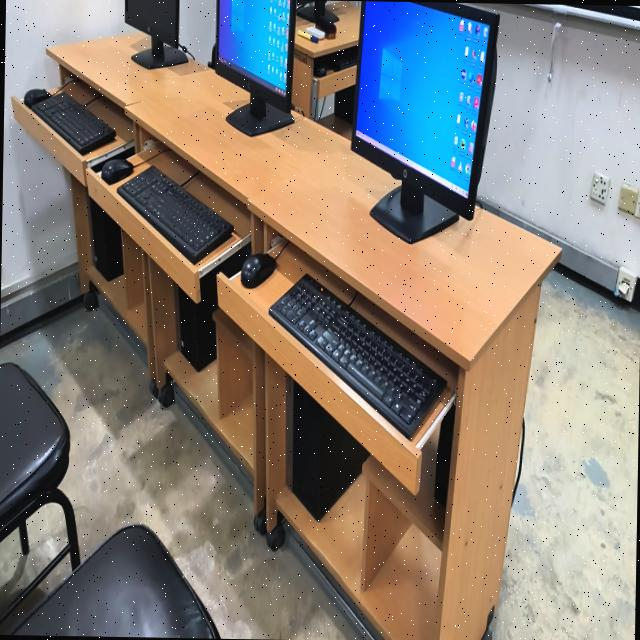Chair: (9, 524, 220, 638), (0, 362, 80, 569)
Cpu: (286, 376, 369, 520), (175, 244, 250, 370), (87, 193, 123, 281)
Keyboard: (269, 275, 446, 437), (117, 166, 233, 264), (30, 91, 115, 154)
Monitor: (351, 1, 498, 242), (215, 0, 295, 135), (125, 0, 187, 68)
Mouse: (241, 253, 276, 288), (101, 159, 133, 184), (24, 89, 51, 108), (314, 66, 326, 77)
